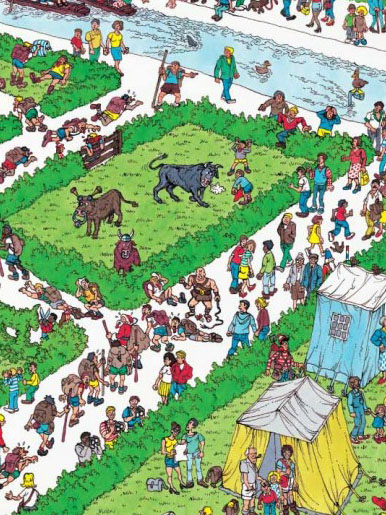waldo: (277, 333, 290, 351)
